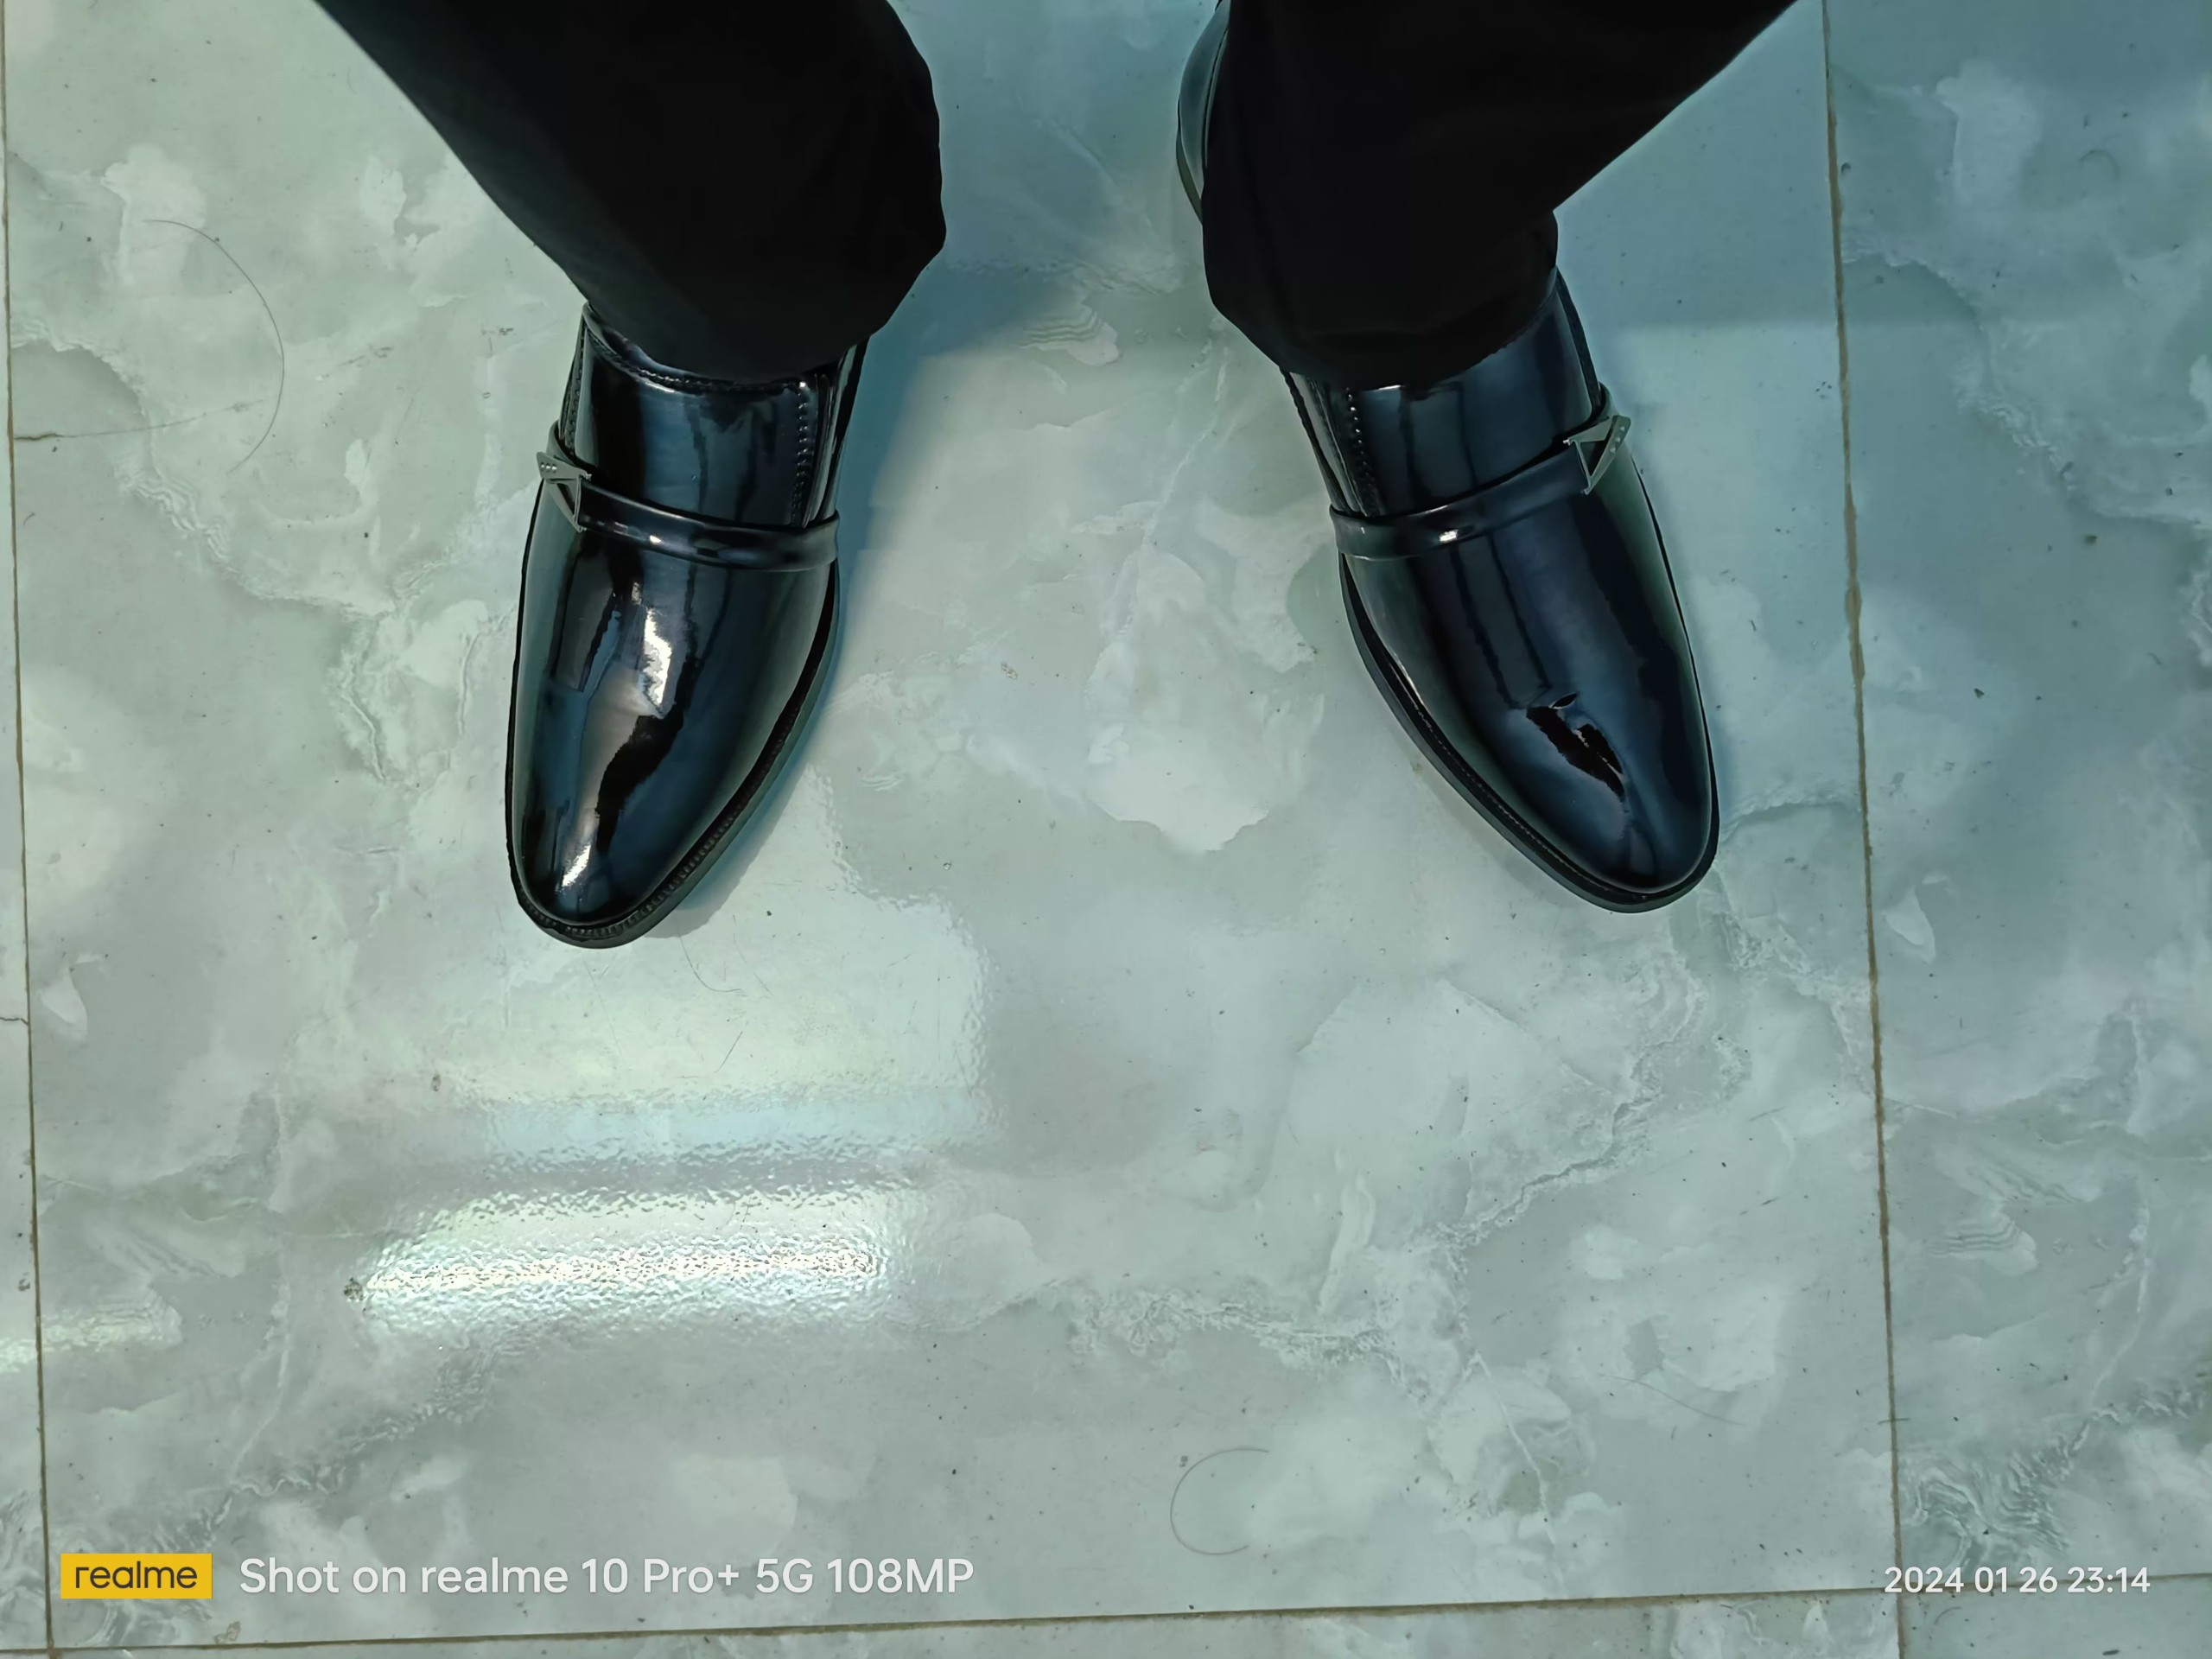loafers: (1167, 14, 1724, 924), (496, 295, 838, 953)
